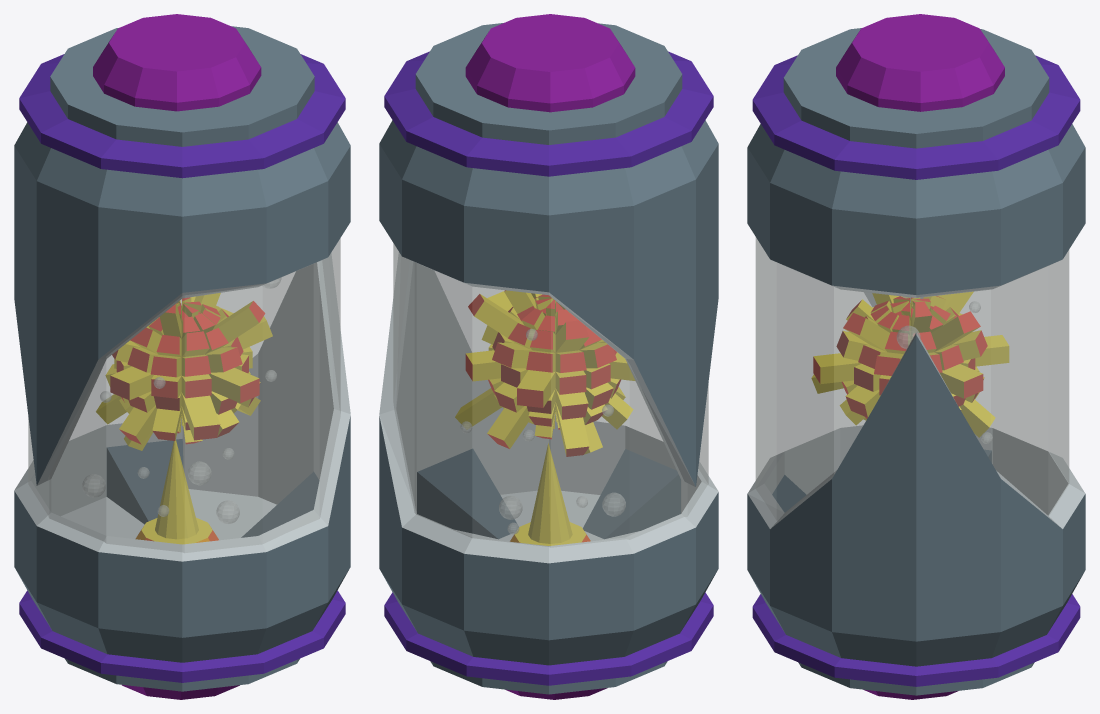
File: Core.fbx
3 renders of one model, left to right at view 1: azimuth 30°, elevation 25°; view 2: azimuth 150°, elevation 25°; view 3: azimuth 270°, elevation 25°, orthographic.
Parts seen in each view (by area): view 1: model14:mesh2124742843, model14:mesh729833253, model14:mesh2118176176, model14:mesh316010335, model14:mesh2116247409, model14:mesh1514521752, model14:mesh661111561, model14:mesh1706763184, model14:mesh1911326310; view 2: model14:mesh2124742843, model14:mesh729833253, model14:mesh2118176176, model14:mesh316010335, model14:mesh2116247409, model14:mesh1514521752, model14:mesh661111561, model14:mesh1706763184, model14:mesh1911326310; view 3: model14:mesh729833253, model14:mesh2124742843, model14:mesh2118176176, model14:mesh316010335, model14:mesh2116247409, model14:mesh1514521752.
Boxes of the visible parts, bbox=[...] form: model14:mesh2124742843: bbox=[14, 26, 350, 485]; model14:mesh729833253: bbox=[14, 253, 350, 691]; model14:mesh2118176176: bbox=[28, 238, 340, 552]; model14:mesh316010335: bbox=[96, 293, 272, 450]; model14:mesh2116247409: bbox=[93, 14, 261, 111]; model14:mesh1514521752: bbox=[106, 439, 319, 537]; model14:mesh661111561: bbox=[155, 439, 198, 539]; model14:mesh1706763184: bbox=[136, 518, 218, 544]; model14:mesh1911326310: bbox=[122, 685, 239, 699]; model14:mesh2124742843: bbox=[379, 23, 718, 486]; model14:mesh729833253: bbox=[379, 252, 718, 694]; model14:mesh2118176176: bbox=[393, 243, 708, 547]; model14:mesh316010335: bbox=[455, 290, 635, 456]; model14:mesh2116247409: bbox=[465, 14, 635, 112]; model14:mesh1514521752: bbox=[417, 448, 680, 539]; model14:mesh661111561: bbox=[528, 443, 572, 543]; model14:mesh1706763184: bbox=[510, 522, 590, 545]; model14:mesh1911326310: bbox=[505, 688, 607, 699]; model14:mesh729833253: bbox=[747, 332, 1085, 695]; model14:mesh2124742843: bbox=[747, 28, 1085, 306]; model14:mesh2118176176: bbox=[755, 237, 1069, 520]; model14:mesh316010335: bbox=[811, 291, 1009, 437]; model14:mesh2116247409: bbox=[836, 14, 1004, 111]; model14:mesh1514521752: bbox=[772, 449, 991, 512].
Size of the model in its own units: 0.84 by 1.72 by 0.84.
